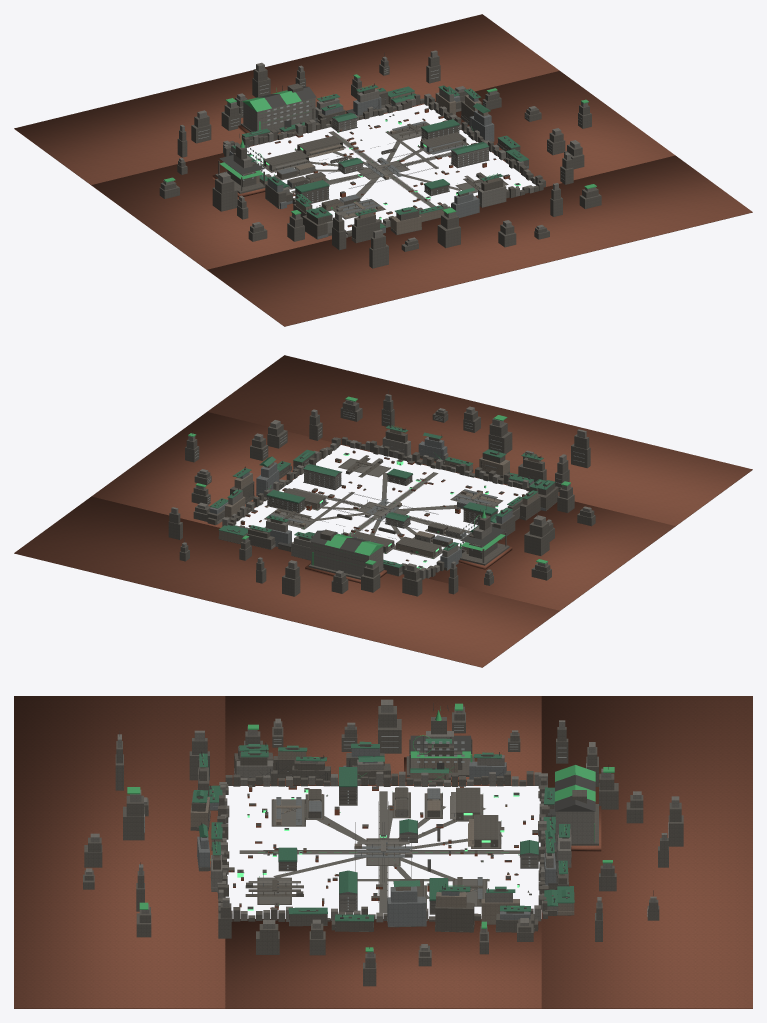
The model's file is haieki-lod0.glb.
3 renders of one model, top to bottom at view 1: azimuth 30°, elevation 25°; view 2: azimuth 150°, elevation 25°; view 3: azimuth 270°, elevation 25°, orthographic. The views are drawn at different scales.
Visible parts, largest first — view 1: HB_haieki_LOD0_terrain, HB_haieki_LOD0_wall_alt, HB_haieki_LOD0_wall, HB_haieki_LOD0_roof, HB_haieki_LOD0_wall_cool, HB_haieki_LOD0_road, HB_haieki_LOD0_trim, HB_haieki_LOD0_wall_weathered, HB_haieki_LOD0_wall_warm, HB_haieki_LOD0_LANDMARK_0_wall, HB_haieki_LOD0_LANDMARK_1_wall_alt, HB_haieki_LOD0_LANDMARK_0_accent (+1 smaller); view 2: HB_haieki_LOD0_terrain, HB_haieki_LOD0_wall_alt, HB_haieki_LOD0_wall, HB_haieki_LOD0_roof, HB_haieki_LOD0_road, HB_haieki_LOD0_wall_cool, HB_haieki_LOD0_trim, HB_haieki_LOD0_wall_warm, HB_haieki_LOD0_wall_weathered, HB_haieki_LOD0_LANDMARK_0_wall, HB_haieki_LOD0_LANDMARK_1_wall_alt, HB_haieki_LOD0_LANDMARK_0_accent (+1 smaller); view 3: HB_haieki_LOD0_terrain, HB_haieki_LOD0_wall_alt, HB_haieki_LOD0_wall, HB_haieki_LOD0_roof, HB_haieki_LOD0_road, HB_haieki_LOD0_wall_cool, HB_haieki_LOD0_wall_weathered, HB_haieki_LOD0_wall_warm, HB_haieki_LOD0_trim, HB_haieki_LOD0_LANDMARK_0_wall, HB_haieki_LOD0_LANDMARK_0_trim, HB_haieki_LOD0_LANDMARK_1_wall_alt (+4 smaller).
Part boxes in pixels (x1=…): HB_haieki_LOD0_terrain: x1=14, y1=14, x2=752, y2=326; HB_haieki_LOD0_wall_alt: x1=159, y1=55, x2=601, y2=268; HB_haieki_LOD0_wall: x1=163, y1=50, x2=595, y2=241; HB_haieki_LOD0_roof: x1=232, y1=85, x2=528, y2=228; HB_haieki_LOD0_wall_cool: x1=229, y1=95, x2=528, y2=238; HB_haieki_LOD0_road: x1=262, y1=115, x2=508, y2=219; HB_haieki_LOD0_trim: x1=225, y1=53, x2=520, y2=218; HB_haieki_LOD0_wall_weathered: x1=252, y1=88, x2=520, y2=238; HB_haieki_LOD0_wall_warm: x1=256, y1=91, x2=498, y2=242; HB_haieki_LOD0_LANDMARK_0_wall: x1=243, y1=98, x2=315, y2=131; HB_haieki_LOD0_LANDMARK_1_wall_alt: x1=215, y1=144, x2=265, y2=193; HB_haieki_LOD0_LANDMARK_0_accent: x1=242, y1=88, x2=308, y2=130; HB_haieki_LOD0_terrain: x1=14, y1=355, x2=752, y2=667; HB_haieki_LOD0_wall_alt: x1=168, y1=399, x2=595, y2=596; HB_haieki_LOD0_wall: x1=171, y1=394, x2=591, y2=579; HB_haieki_LOD0_roof: x1=210, y1=425, x2=555, y2=567; HB_haieki_LOD0_road: x1=264, y1=459, x2=502, y2=561; HB_haieki_LOD0_wall_cool: x1=209, y1=437, x2=545, y2=570; HB_haieki_LOD0_trim: x1=184, y1=390, x2=544, y2=568; HB_haieki_LOD0_wall_warm: x1=218, y1=429, x2=540, y2=557; HB_haieki_LOD0_wall_weathered: x1=207, y1=429, x2=558, y2=570; HB_haieki_LOD0_LANDMARK_0_wall: x1=311, y1=541, x2=383, y2=576; HB_haieki_LOD0_LANDMARK_1_wall_alt: x1=460, y1=515, x2=509, y2=565; HB_haieki_LOD0_LANDMARK_0_accent: x1=312, y1=532, x2=383, y2=566; HB_haieki_LOD0_terrain: x1=14, y1=696, x2=752, y2=1008; HB_haieki_LOD0_wall_alt: x1=83, y1=706, x2=683, y2=986; HB_haieki_LOD0_wall: x1=86, y1=699, x2=679, y2=957; HB_haieki_LOD0_roof: x1=192, y1=738, x2=574, y2=921; HB_haieki_LOD0_road: x1=239, y1=791, x2=531, y2=912; HB_haieki_LOD0_wall_cool: x1=197, y1=748, x2=557, y2=926; HB_haieki_LOD0_wall_weathered: x1=211, y1=743, x2=566, y2=931; HB_haieki_LOD0_wall_warm: x1=190, y1=749, x2=574, y2=923; HB_haieki_LOD0_trim: x1=119, y1=731, x2=653, y2=948; HB_haieki_LOD0_LANDMARK_0_wall: x1=556, y1=811, x2=594, y2=843; HB_haieki_LOD0_LANDMARK_0_trim: x1=551, y1=775, x2=595, y2=822; HB_haieki_LOD0_LANDMARK_1_wall_alt: x1=406, y1=717, x2=474, y2=776.
Size of the model in its own units: 734 by 76.48 by 734.
Materials: 14 (12 with a texture image).
